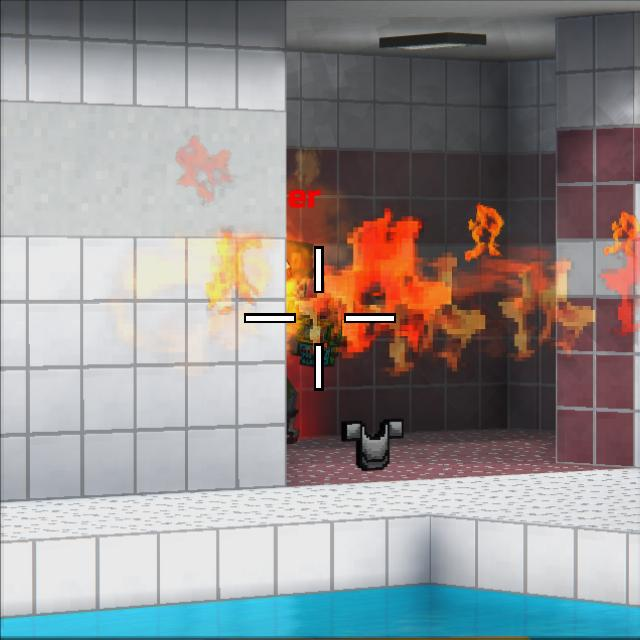Enemy: (283, 243, 344, 443)
